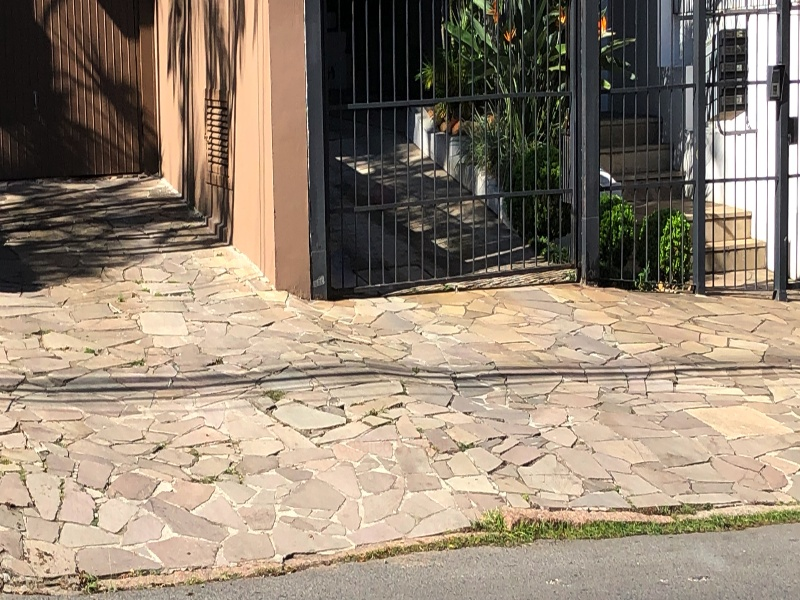v11: (15, 511, 493, 598)
